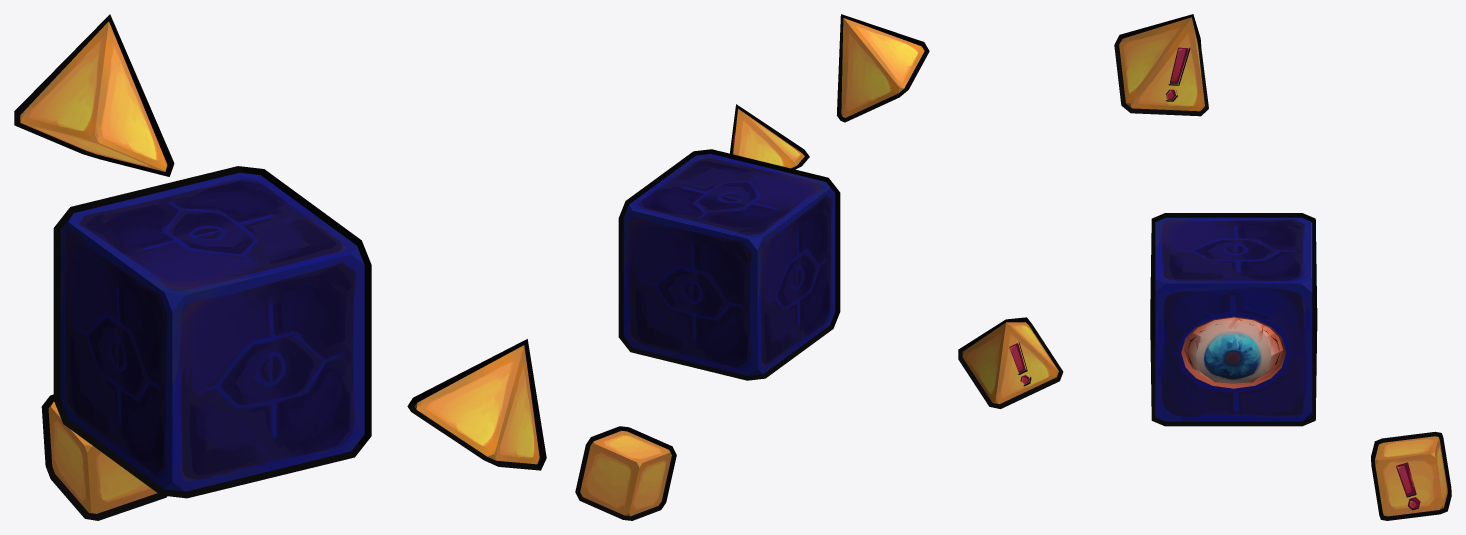
The model's file is eye-rah.fbx.
3 views of the same model, side by side, from view 1: azimuth 30°, elevation 25°; view 2: azimuth 150°, elevation 25°; view 3: azimuth 270°, elevation 25° (orthographic). The views are drawn at different scales.
Parts seen in each view (by area): view 1: Main Body, Exclamation Triangle.001, Exclamation Triangle, Exclamation Square; view 2: Main Body, Exclamation Square, Exclamation Triangle.001, Exclamation Triangle; view 3: Main Body, Exclamation Triangle.001, Exclamation Triangle, Exclamation Square, Eye, Exclamation Mark.001.
Boxes of the visible parts, left/top/right/bottom form: Main Body: left=53, top=166, right=371, bottom=498; Exclamation Triangle.001: left=14, top=14, right=174, bottom=176; Exclamation Triangle: left=407, top=339, right=546, bottom=470; Exclamation Square: left=41, top=394, right=167, bottom=520; Main Body: left=618, top=149, right=840, bottom=380; Exclamation Square: left=575, top=426, right=676, bottom=520; Exclamation Triangle.001: left=837, top=14, right=929, bottom=122; Exclamation Triangle: left=730, top=104, right=809, bottom=169; Main Body: left=1150, top=213, right=1317, bottom=426; Exclamation Triangle.001: left=1114, top=14, right=1208, bottom=116; Exclamation Triangle: left=958, top=317, right=1063, bottom=408; Exclamation Square: left=1371, top=431, right=1451, bottom=520; Eye: left=1184, top=317, right=1283, bottom=383; Exclamation Mark.001: left=1166, top=47, right=1190, bottom=101.
Bounding box in the file's own units: 188 × 292 × 292.
